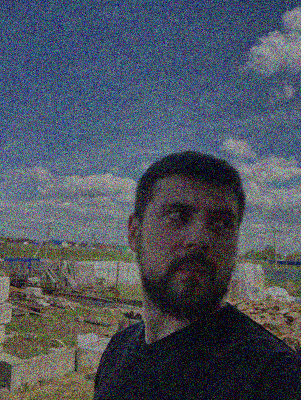without_mask: (152, 192, 239, 319)
